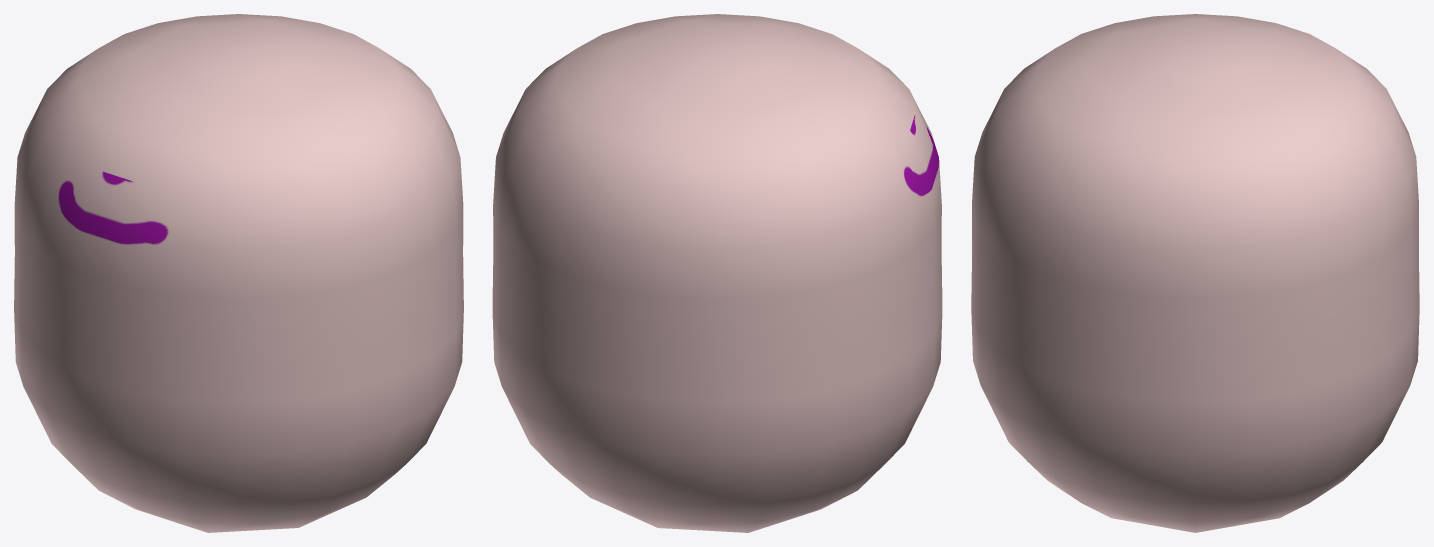
The model's file is head_01.glb.
The picture shows the model from 3 angles, left to right: view 1: azimuth 30°, elevation 25°; view 2: azimuth 150°, elevation 25°; view 3: azimuth 270°, elevation 25°; orthographic projection.
Visible parts, largest first — view 1: CharacterTemplate_Head; view 2: CharacterTemplate_Head; view 3: CharacterTemplate_Head.
Boxes of the visible parts, x1=… form: CharacterTemplate_Head: x1=14, y1=14, x2=463, y2=532; CharacterTemplate_Head: x1=492, y1=14, x2=942, y2=532; CharacterTemplate_Head: x1=971, y1=14, x2=1419, y2=532.
Bounding box in the file's own units: 0.9025 × 0.9704 × 0.9025.
1 material, 1 textured.
